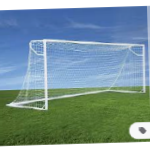goals: (5, 37, 148, 110)
